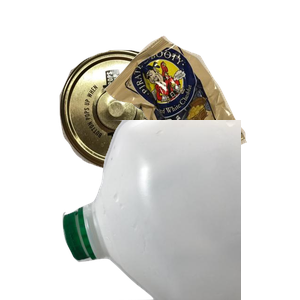glass: (85, 141, 275, 300)
metal: (57, 47, 227, 211)
plastic: (60, 120, 300, 300)
trash: (101, 33, 300, 206)
